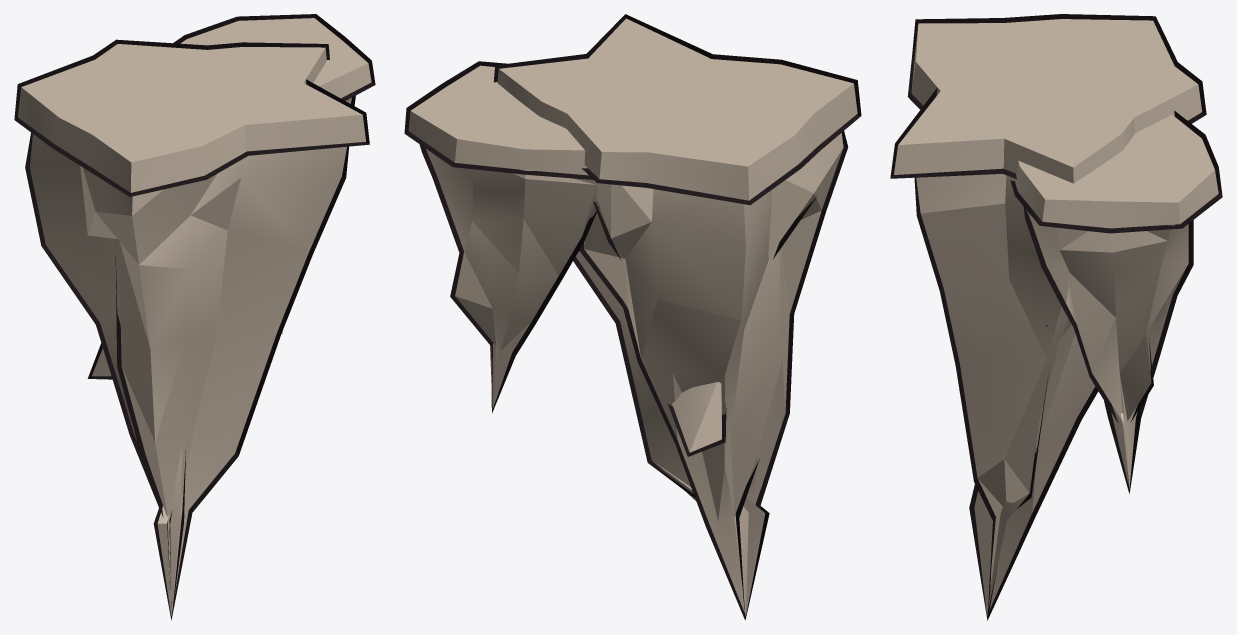
Rendered from SM_Trail_Islet_04.fbx.
The picture shows the model from 3 angles, left to right: view 1: azimuth 30°, elevation 25°; view 2: azimuth 150°, elevation 25°; view 3: azimuth 270°, elevation 25°; orthographic projection. The views are drawn at different scales.
Parts seen in each view (by area): view 1: SM_Trail_Islet_04; view 2: SM_Trail_Islet_04; view 3: SM_Trail_Islet_04.
Part boxes in pixels (left/top/right/bottom): SM_Trail_Islet_04: left=14, top=14, right=375, bottom=620; SM_Trail_Islet_04: left=404, top=14, right=861, bottom=620; SM_Trail_Islet_04: left=890, top=14, right=1222, bottom=620.
Bounding box in the file's own units: 10.94 × 16.53 × 8.83.
